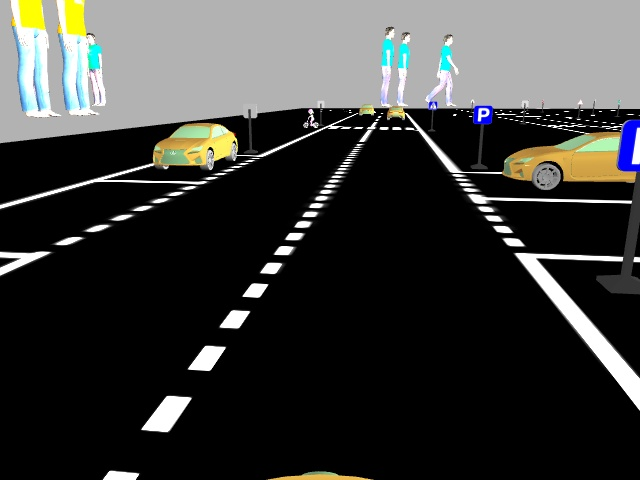Parking: (472, 104, 494, 126)
